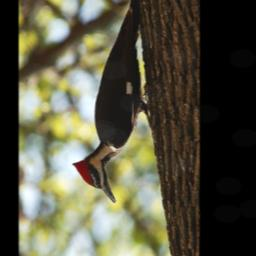Woodpecker: (72, 0, 162, 204)
